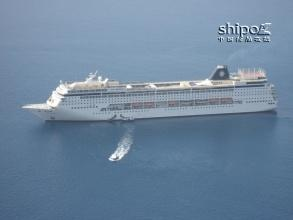youlun: (20, 62, 278, 122)
